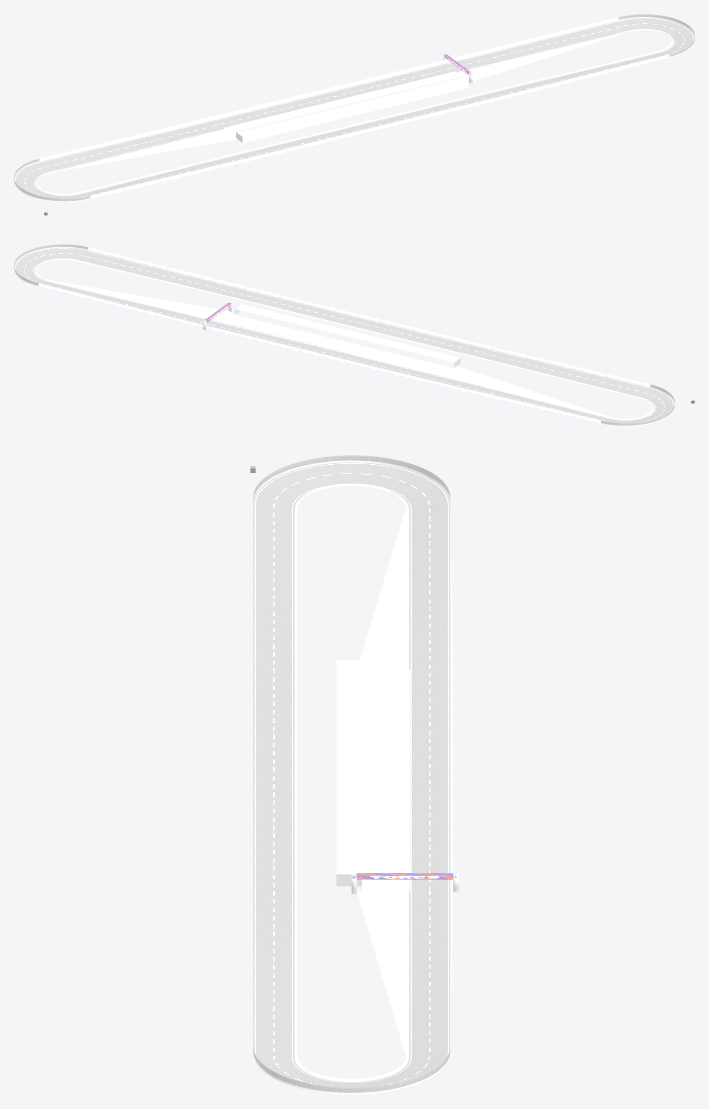
3 views of the same model, one above another, from view 1: azimuth 30°, elevation 25°; view 2: azimuth 150°, elevation 25°; view 3: azimuth 270°, elevation 25° (orthographic). The views are drawn at different scales.
Visible parts, largest first — view 1: tkMn26, tkMn208, tkMn221, tkMn39, tkMn13, tkMn234, tkMn0, tkMn247, tkMn260, tkMn286, tkMn273, tkRS239 (+16 smaller); view 2: tkMn52, tkMn65, tkMn182, tkMn169, tkMn78, tkMn156, tkMn91, tkRS264, tkMn130, tkRS251, tkRS277, tkMn117 (+17 smaller); view 3: tkMn195, tkRS251, tkRS264, tkRS277, tkRS0, tkMn182, tkMn208, tkMn65, tkMn156, tkMn169, tkMn78, tkMn0 (+19 smaller).
Part boxes in pixels (box(x1,y1,x2,y2)): tkMn26: box(564, 20, 631, 43); tkMn208: box(19, 153, 85, 178); tkMn221: box(76, 139, 145, 162); tkMn39: box(625, 18, 692, 38); tkMn13: box(505, 34, 573, 57); tkMn234: box(136, 125, 204, 148); tkMn0: box(445, 49, 514, 72); tkMn247: box(195, 111, 262, 133); tkMn260: box(255, 96, 321, 117); tkMn286: box(373, 67, 439, 89); tkMn273: box(314, 82, 380, 103); tkRS239: box(169, 129, 235, 148); tkMn52: box(29, 248, 100, 263); tkMn65: box(91, 254, 158, 276); tkMn182: box(610, 380, 672, 404); tkMn169: box(552, 367, 618, 389); tkMn78: box(149, 268, 215, 290); tkMn156: box(494, 353, 560, 375); tkMn91: box(207, 283, 273, 304); tkRS264: box(330, 340, 396, 361); tkMn130: box(379, 325, 445, 346); tkRS251: box(387, 354, 453, 376); tkRS277: box(272, 326, 339, 347); tkMn117: box(322, 311, 388, 332); tkMn195: box(283, 463, 428, 493); tkRS251: box(362, 672, 408, 727); tkRS264: box(362, 728, 408, 783); tkRS277: box(362, 784, 408, 839); tkRS0: box(358, 891, 408, 948); tkMn182: box(254, 475, 309, 538); tkMn208: box(398, 479, 449, 543); tkMn65: box(254, 984, 293, 1044); tkMn156: box(254, 591, 293, 650); tkMn169: box(254, 534, 293, 594); tkMn78: box(254, 928, 293, 987); tkMn0: box(410, 890, 449, 948).
Size of the model in its own units: 577 by 10.61 by 80.1.
14 materials, 12 textured.
